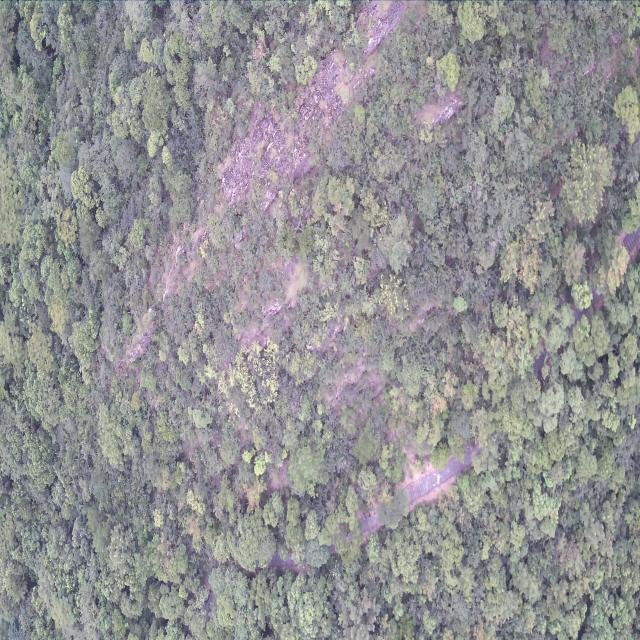UAV: (433, 473, 443, 487)
